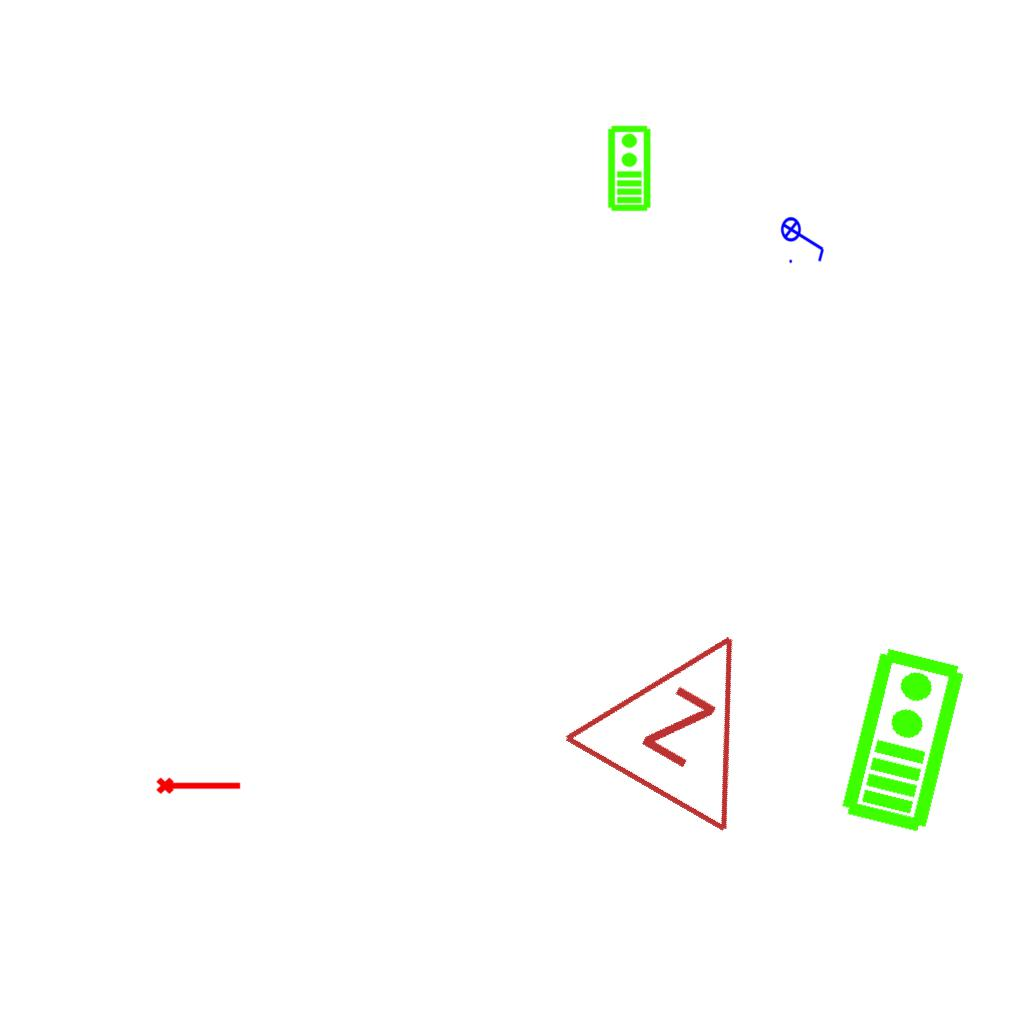ASR_Ansaugoeffnung: (155, 773, 243, 796)
Ausschalter_beleuchtet: (780, 210, 828, 266)
Gegensprechanlage_mit_Video: (834, 642, 969, 836), (605, 124, 652, 212)
Zimmersignalleuchte: (550, 575, 820, 847)
